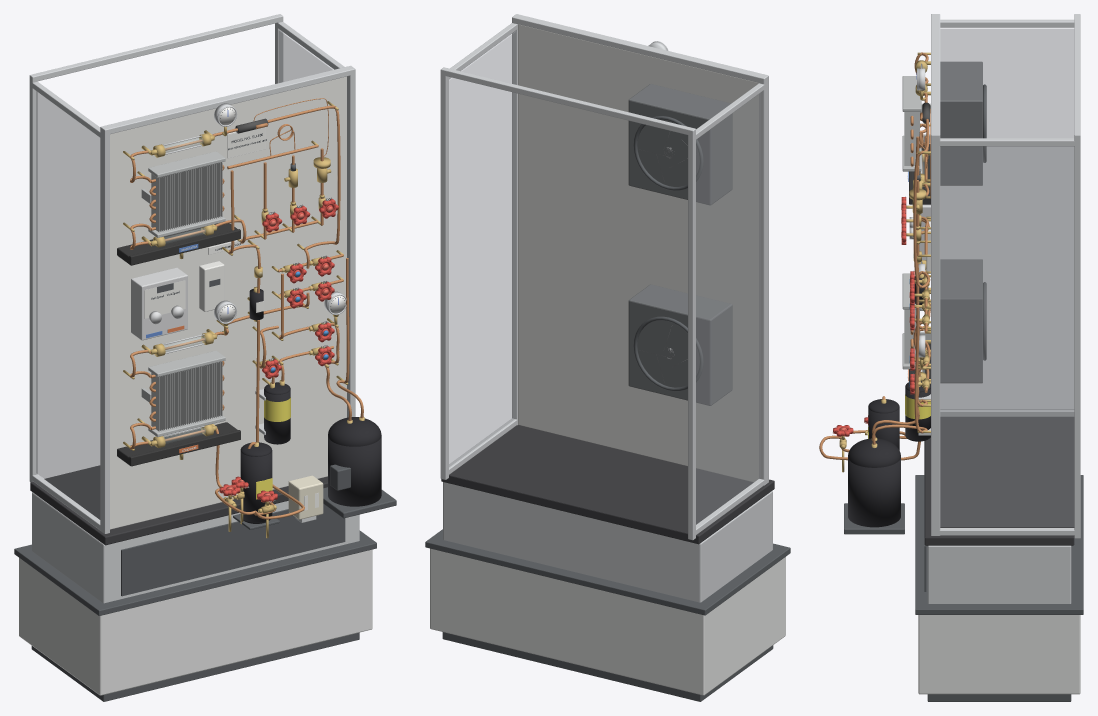
File: tu100-unit.glb
3 renders of one model, left to right at view 1: azimuth 30°, elevation 25°; view 2: azimuth 150°, elevation 25°; view 3: azimuth 270°, elevation 25°, orthographic.
Parts seen in each view (by area): view 1: Panel, Cabinet, Mesh_Side_L, Bench_Frame_Inset, Bench_Frame, Cabinet_Top, Bench_Top, Compressor, Frame_Side_L, Coil_Upper_Fins, Coil_Lower_Fins, Frame_SideBack_L (+23 smaller); view 2: Panel, Cabinet, Mesh_Side_R, Mesh_Side_L, Bench_Frame, Bench_Top, Fan_Lower_Housing, Fan_Upper_Housing, Cabinet_Top, Frame_Side_L, Frame_SideBack_R, Frame_SideBack_L (+10 smaller); view 3: Mesh_Side_R, Mesh_Side_L, Bench_Top, Cabinet, Bench_Frame, Fan_Lower_Housing, Fan_Upper_Housing, Compressor, Cabinet_Top, Frame_Side_R, Frame_SideBack_R, Frame_Top (+14 smaller).
Part boxes in pixels (x1,y1,x2,y2): Panel: (110, 76, 346, 529); Cabinet: (19, 549, 372, 695); Mesh_Side_L: (36, 91, 100, 519); Bench_Frame_Inset: (121, 504, 345, 596); Bench_Frame: (32, 492, 359, 603); Cabinet_Top: (14, 530, 376, 615); Bench_Top: (30, 465, 327, 545); Compressor: (328, 417, 381, 506); Frame_Side_L: (100, 130, 109, 533); Coil_Upper_Fins: (151, 162, 222, 232); Coil_Lower_Fins: (151, 361, 222, 431); Frame_SideBack_L: (29, 79, 37, 482); Panel: (518, 24, 758, 482); Cabinet: (430, 548, 785, 695); Mesh_Side_R: (449, 31, 516, 466); Mesh_Side_L: (696, 93, 760, 524); Bench_Frame: (443, 482, 772, 602); Bench_Top: (441, 425, 774, 544); Fan_Lower_Housing: (628, 284, 732, 405); Fan_Upper_Housing: (628, 84, 732, 205); Cabinet_Top: (425, 529, 790, 615); Frame_Side_L: (759, 79, 768, 485); Frame_SideBack_R: (440, 73, 448, 479); Frame_SideBack_L: (688, 132, 695, 540); Mesh_Side_R: (940, 146, 1074, 526); Mesh_Side_L: (940, 28, 1074, 409); Bench_Top: (924, 417, 1074, 545); Cabinet: (918, 615, 1080, 694); Bench_Frame: (927, 545, 1071, 603); Fan_Lower_Housing: (940, 259, 982, 383); Fan_Upper_Housing: (940, 61, 982, 185); Compressor: (848, 438, 900, 527); Cabinet_Top: (915, 475, 1083, 614); Frame_Side_R: (931, 138, 940, 535); Frame_SideBack_R: (1074, 138, 1080, 538); Frame_Top: (931, 14, 940, 140).
Size of the model in its own units: 1.02 by 1.99 by 0.843.
